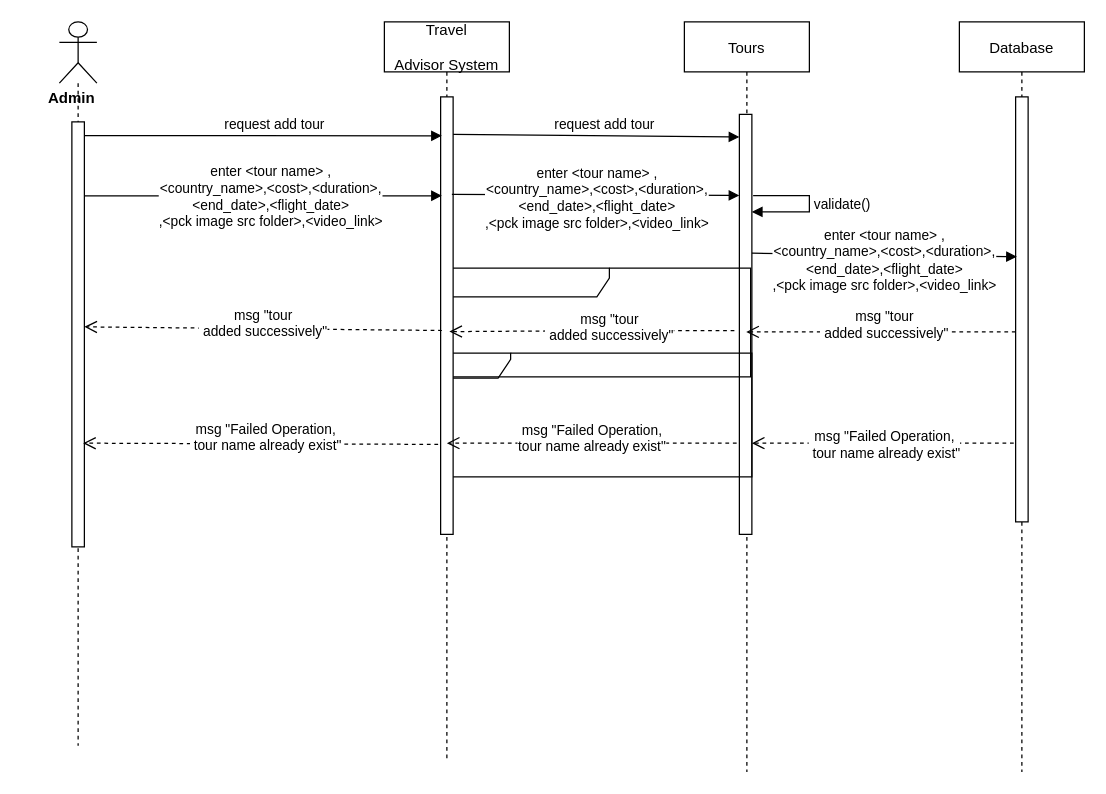
Some shapes in this 1106 by 794 pixel diagram are drawn without their labels. The box of each missing label's shape, as (x1, y1, x2, y2) in pixels:
else: (447, 352, 752, 477)
if tour name is unique: (446, 267, 751, 377)
